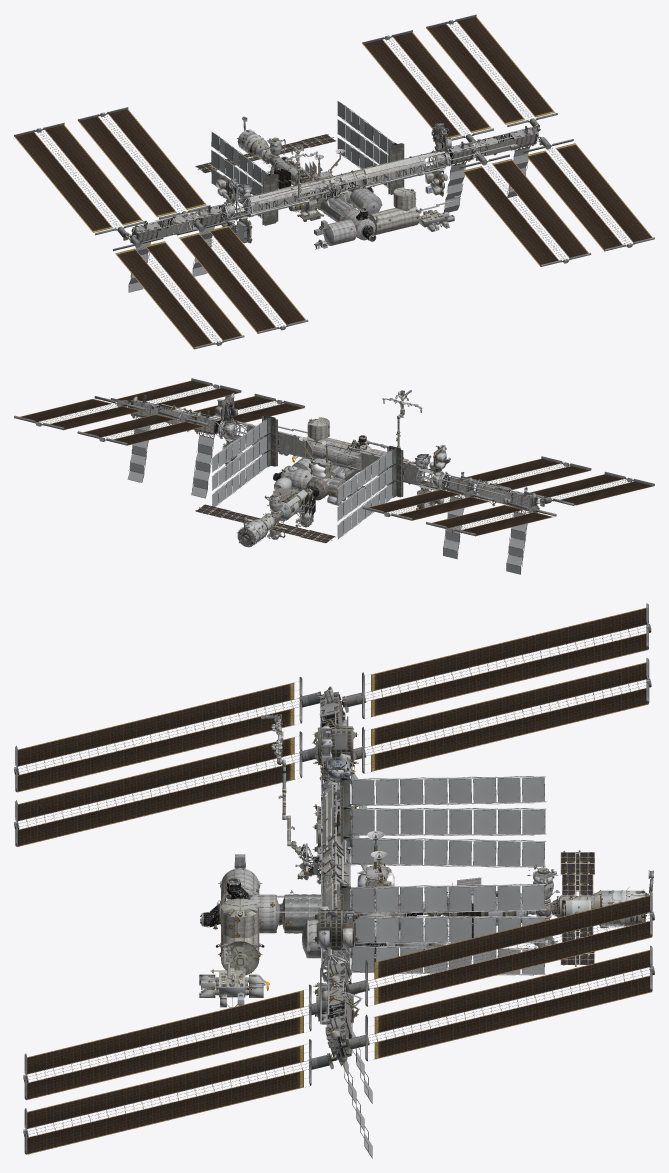
The model's file is sc_iss.glb.
The picture shows the model from 3 angles, top to bottom: view 1: azimuth 30°, elevation 25°; view 2: azimuth 150°, elevation 25°; view 3: azimuth 270°, elevation 25°; orthographic projection. The views are drawn at different scales.
Parts seen in each view (by area): view 1: 08 P6 Truss, 32 S6 Truss, 23 S4 Truss_02, 23 S4 Truss_01, 20 P4 Truss_01, 20 P4 Truss_02, 17 P1 Truss, 16 S1 Truss, 20 P4 Truss, 14 S0 Truss, 30 Kibo Space Laboratory (PSM) Pressurized Module, 23 S4 Truss (+6 smaller); view 2: 32 S6 Truss, 08 P6 Truss, 17 P1 Truss, 16 S1 Truss, 20 P4 Truss_02, 23 S4 Truss_02, 23 S4 Truss_01, 20 P4 Truss, 20 P4 Truss_01, 23 S4 Truss, 14 S0 Truss, 05 Zvezda (SM) Service Module (+10 smaller); view 3: 08 P6 Truss, 32 S6 Truss, 16 S1 Truss, 17 P1 Truss, 20 P4 Truss_01, 20 P4 Truss_02, 23 S4 Truss_02, 23 S4 Truss_01, 05 Zvezda (SM) Service Module, 43 Express Logistics Carrier (ELC) 3, 14 S0 Truss, 33 Kibo Space Laboratory Exposed Platform (+8 smaller).
Boxes of the visible parts, box(x1,y1,x2,y2) form: 08 P6 Truss: box(426, 14, 654, 251); 32 S6 Truss: box(14, 122, 244, 349); 23 S4 Truss_02: box(78, 107, 208, 219); 23 S4 Truss_01: box(176, 220, 308, 333); 20 P4 Truss_01: box(459, 154, 590, 266); 20 P4 Truss_02: box(362, 30, 493, 142); 17 P1 Truss: box(337, 100, 425, 194); 16 S1 Truss: box(211, 131, 310, 225); 20 P4 Truss: box(443, 137, 514, 212); 14 S0 Truss: box(306, 169, 366, 216); 30 Kibo Space Laboratory (PSM) Pressurized Module: box(368, 206, 420, 234); 23 S4 Truss: box(155, 204, 228, 276); 32 S6 Truss: box(426, 471, 654, 574); 08 P6 Truss: box(14, 378, 241, 482); 17 P1 Truss: box(212, 415, 305, 506); 16 S1 Truss: box(337, 446, 423, 539); 20 P4 Truss_02: box(77, 411, 208, 445); 23 S4 Truss_02: box(362, 486, 493, 520); 23 S4 Truss_01: box(460, 456, 591, 489); 20 P4 Truss: box(161, 404, 225, 498); 20 P4 Truss_01: box(190, 393, 304, 425); 23 S4 Truss: box(440, 471, 508, 559); 14 S0 Truss: box(305, 439, 361, 472); 05 Zvezda (SM) Service Module: box(237, 511, 284, 547); 08 P6 Truss: box(23, 945, 654, 1158); 32 S6 Truss: box(14, 603, 651, 809); 16 S1 Truss: box(321, 774, 546, 867); 17 P1 Truss: box(321, 882, 546, 975); 20 P4 Truss_01: box(23, 984, 326, 1100); 20 P4 Truss_02: box(348, 891, 654, 1006); 23 S4 Truss_02: box(353, 658, 651, 773); 23 S4 Truss_01: box(14, 731, 316, 846); 05 Zvezda (SM) Service Module: box(533, 870, 653, 928); 43 Express Logistics Carrier (ELC) 3: box(313, 906, 359, 951); 14 S0 Truss: box(273, 834, 351, 912); 33 Kibo Space Laboratory Exposed Platform: box(199, 968, 263, 1007).
Bounding box in the file's own units: 1.63 × 0.4421 × 1.11.
47 materials, 29 textured.
